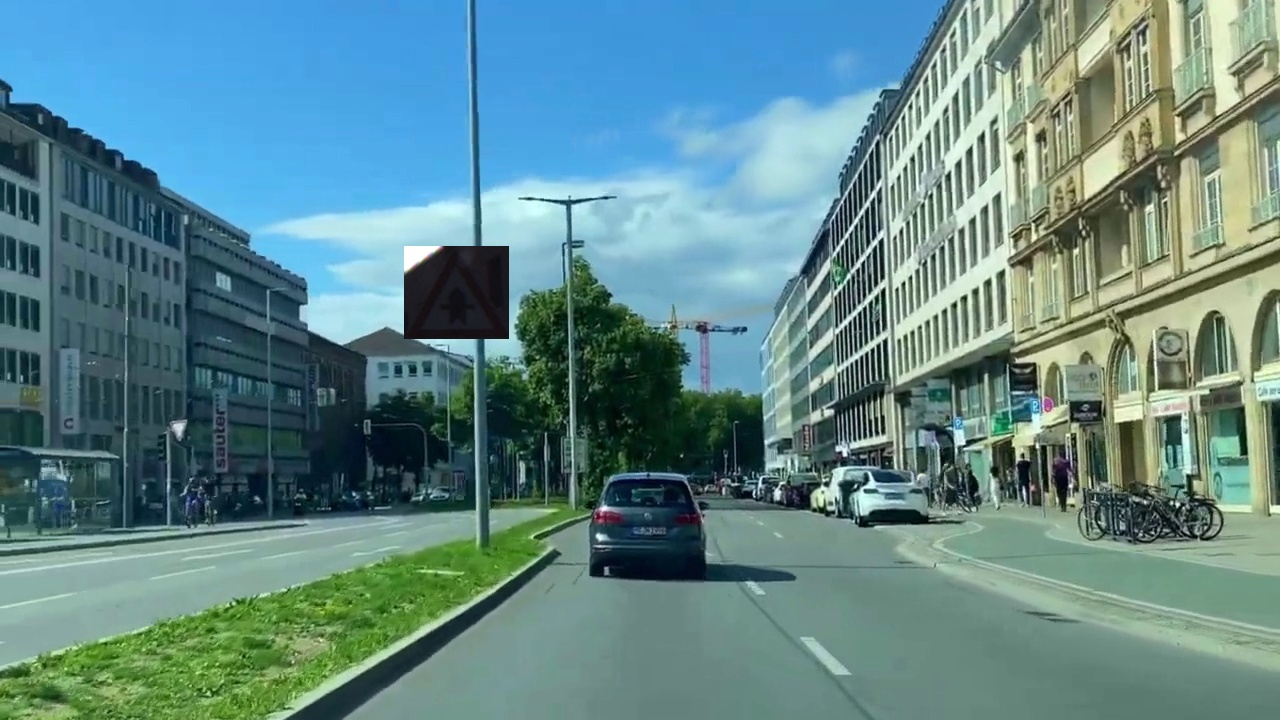Right-of-way: (404, 246, 509, 339)
